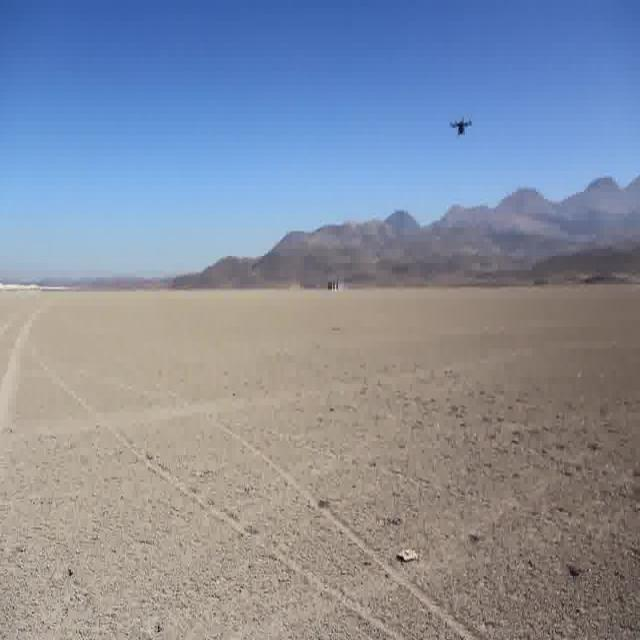drones: (443, 101, 478, 145)
